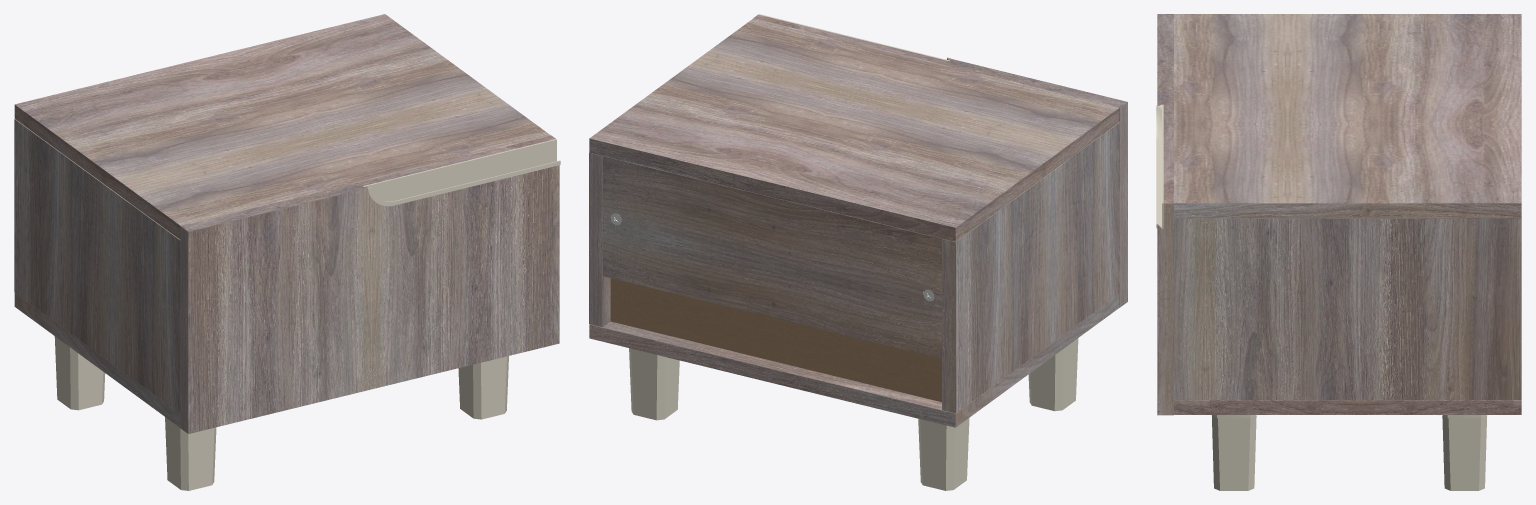
3 renders of one model, left to right at view 1: azimuth 30°, elevation 25°; view 2: azimuth 150°, elevation 25°; view 3: azimuth 270°, elevation 25°, orthographic. The views are drawn at different scales.
Visible parts, largest first — view 1: group_0.094, group_0.088, group_0.143; view 2: group_0.094, group_0.030, group_0.088; view 3: group_0.094, group_0.088, group_0.143.
Part boxes in pixels (bbox=[...]): group_0.094: bbox=[14, 14, 559, 433]; group_0.088: bbox=[54, 336, 508, 490]; group_0.143: bbox=[363, 139, 560, 206]; group_0.094: bbox=[589, 14, 1127, 427]; group_0.030: bbox=[610, 278, 941, 402]; group_0.088: bbox=[629, 338, 1078, 490]; group_0.094: bbox=[1157, 14, 1521, 415]; group_0.088: bbox=[1211, 415, 1487, 490]; group_0.143: bbox=[1156, 104, 1163, 228].
Size of the model in its own units: 0.481 by 0.3532 by 0.391.
4 materials, 2 textured.
